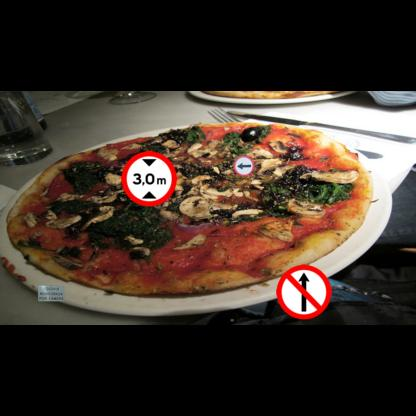I-E: (38, 285, 64, 301)
R-15: (121, 151, 177, 206)
R-24a: (233, 156, 254, 176)
R-3: (276, 264, 332, 319)
